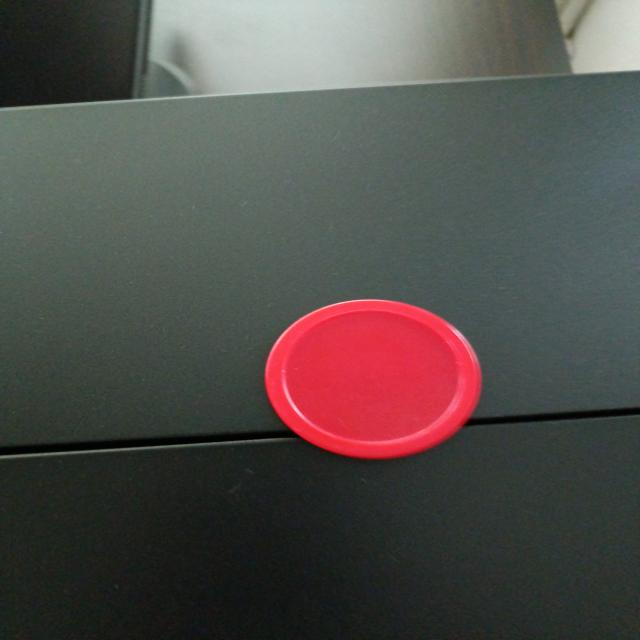chip: (260, 296, 484, 461)
